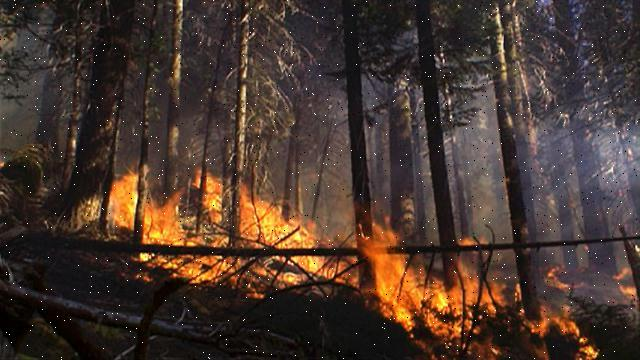fire: (70, 157, 602, 360)
